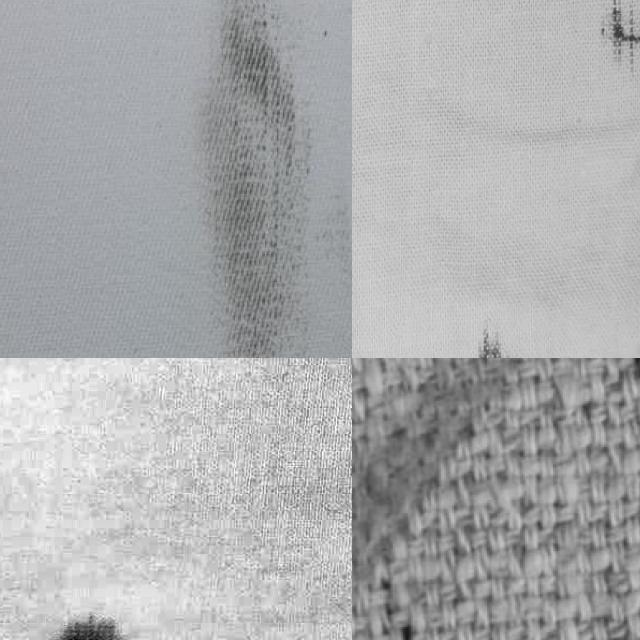Hole: (105, 0, 352, 358), (421, 308, 640, 358), (19, 574, 177, 640)
